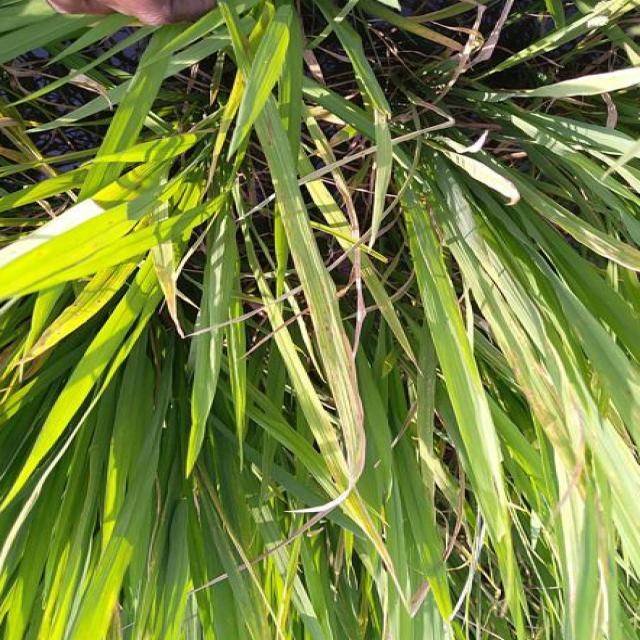Leaf Blight: (469, 272, 605, 537), (261, 148, 365, 483)
